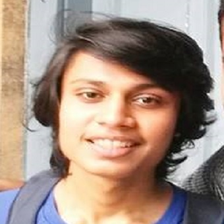no_mask: (62, 57, 176, 177)
